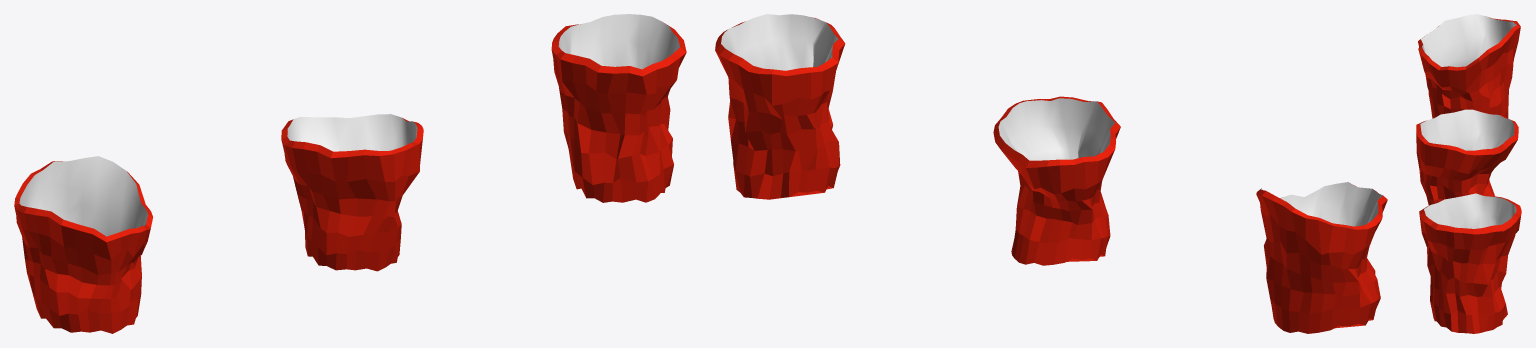
The model's file is bekertjes.fbx.
The picture shows the model from 3 angles, left to right: view 1: azimuth 30°, elevation 25°; view 2: azimuth 150°, elevation 25°; view 3: azimuth 270°, elevation 25°; orthographic projection. The views are drawn at different scales.
Parts seen in each view (by area): view 1: Cylinder.004, Cylinder.005, Cylinder.003, Cylinder.006, Cylinder.009, Cylinder.008; view 2: Cylinder.004, Cylinder.003, Cylinder.005, Cylinder.008, Cylinder.009, Cylinder.006; view 3: Cylinder.004, Cylinder.003, Cylinder.005, Cylinder.006, Cylinder.008, Cylinder.009.
Boxes of the visible parts, box(x1,y1,x2,y2) form: Cylinder.004: box(551, 23, 686, 202); Cylinder.005: box(281, 118, 423, 271); Cylinder.003: box(14, 161, 152, 333); Cylinder.006: box(19, 156, 147, 236); Cylinder.009: box(558, 14, 679, 69); Cylinder.008: box(287, 114, 417, 151); Cylinder.004: box(715, 17, 845, 199); Cylinder.003: box(1256, 183, 1387, 333); Cylinder.005: box(993, 96, 1120, 265); Cylinder.008: box(998, 98, 1114, 160); Cylinder.009: box(721, 14, 838, 70); Cylinder.006: box(1261, 182, 1382, 226); Cylinder.004: box(1419, 194, 1521, 333); Cylinder.003: box(1418, 17, 1520, 118); Cylinder.005: box(1416, 113, 1518, 205); Cylinder.006: box(1421, 14, 1516, 67); Cylinder.008: box(1420, 109, 1514, 150); Cylinder.009: box(1424, 193, 1516, 228).
Size of the model in its own units: 1525 by 334 by 287.
